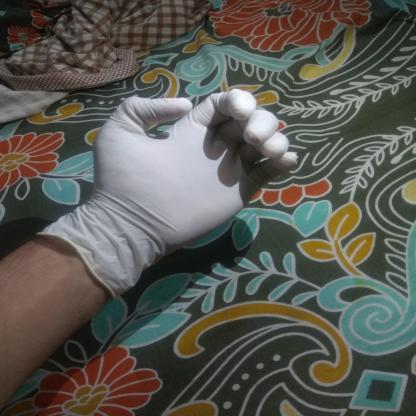gloved_hand: (34, 84, 302, 304)
